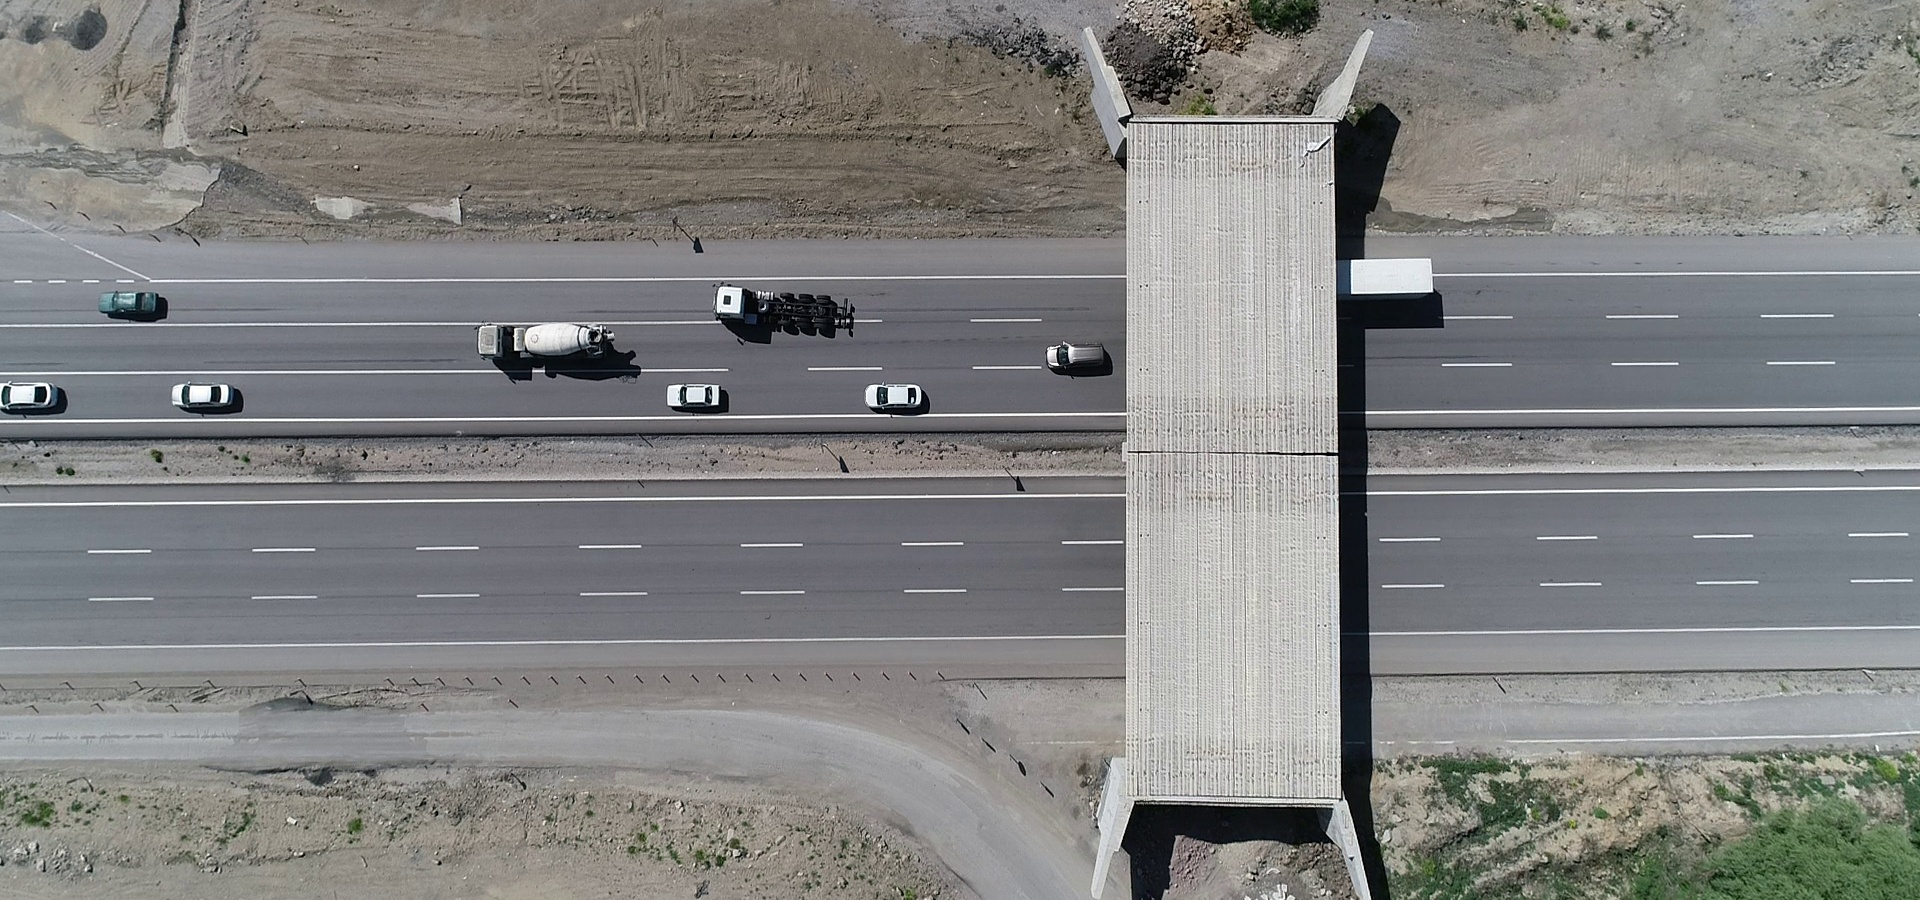araba: (1330, 249, 1453, 318), (92, 279, 180, 318), (162, 371, 244, 413), (860, 377, 937, 421), (1, 371, 73, 413), (667, 376, 730, 410)
kamyon: (467, 310, 629, 373), (708, 283, 869, 333), (1040, 338, 1122, 383)
